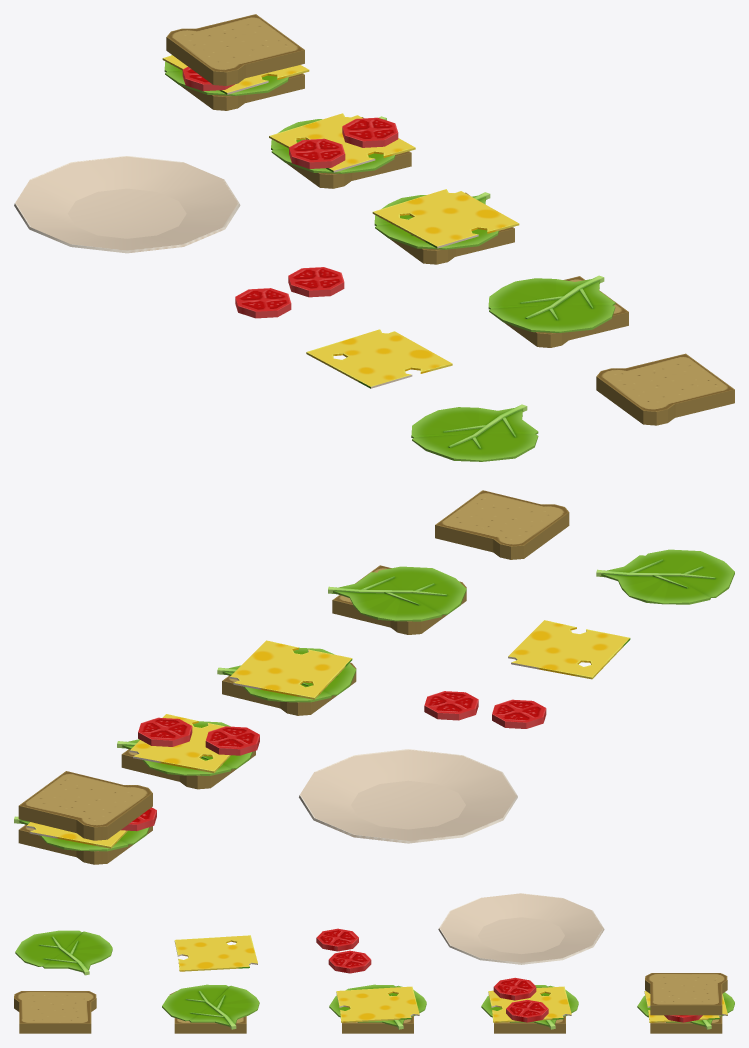
Rendered from All.fbx.
3 views of the same model, one above another, from view 1: azimuth 30°, elevation 25°; view 2: azimuth 150°, elevation 25°; view 3: azimuth 270°, elevation 25° (orthographic). The views are drawn at different scales.
Parts seen in each view (by area): view 1: pCylinder15, polySurface27, polySurface24, polySurface21, polySurface18, pCube25, polySurface13, polySurface14, polySurface16; view 2: pCylinder15, polySurface27, polySurface24, polySurface21, polySurface18, pCube25, polySurface13, polySurface14, polySurface16; view 3: pCylinder15, polySurface27, polySurface24, polySurface21, polySurface18, pCube25, polySurface13, polySurface14, polySurface16.
Boxes of the visible parts, x1=… form: pCylinder15: x1=14, y1=156, x2=240, y2=253; polySurface27: x1=162, y1=14, x2=309, y2=110; polySurface24: x1=269, y1=113, x2=415, y2=188; polySurface21: x1=372, y1=189, x2=519, y2=264; polySurface18: x1=488, y1=275, x2=628, y2=347; pCube25: x1=596, y1=353, x2=734, y2=425; polySurface13: x1=411, y1=404, x2=538, y2=461; polySurface14: x1=306, y1=329, x2=452, y2=388; polySurface16: x1=235, y1=267, x2=344, y2=318; pCylinder15: x1=299, y1=749, x2=517, y2=843; polySurface27: x1=14, y1=771, x2=156, y2=864; polySurface24: x1=117, y1=714, x2=259, y2=789; polySurface21: x1=217, y1=640, x2=356, y2=715; polySurface18: x1=328, y1=565, x2=466, y2=634; pCube25: x1=435, y1=490, x2=569, y2=559; polySurface13: x1=596, y1=549, x2=734, y2=604; polySurface14: x1=508, y1=620, x2=630, y2=679; polySurface16: x1=424, y1=691, x2=546, y2=728; pCylinder15: x1=438, y1=893, x2=604, y2=964; polySurface27: x1=637, y1=973, x2=734, y2=1033; polySurface24: x1=481, y1=977, x2=578, y2=1033; polySurface21: x1=329, y1=984, x2=426, y2=1033; polySurface18: x1=162, y1=984, x2=259, y2=1033; pCube25: x1=14, y1=991, x2=96, y2=1033; polySurface13: x1=15, y1=930, x2=112, y2=975; polySurface14: x1=174, y1=935, x2=257, y2=971; polySurface16: x1=316, y1=928, x2=371, y2=973.
Size of the model in its own units: 4.17 by 0.4077 by 9.38.
